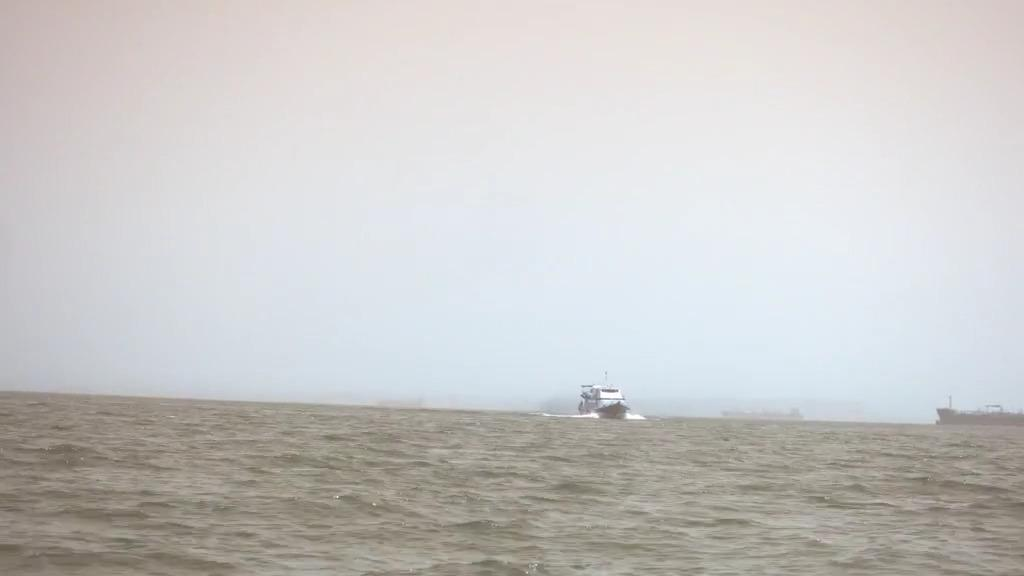PassengerShip: (576, 373, 634, 423)
